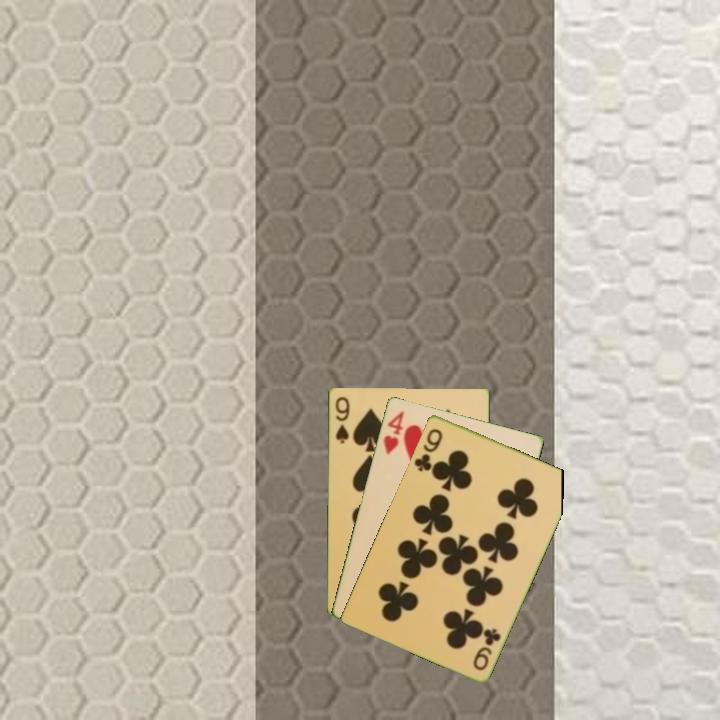4h: (379, 407, 407, 457)
9c: (410, 425, 445, 474), (469, 624, 504, 673)
9s: (332, 393, 352, 446)
